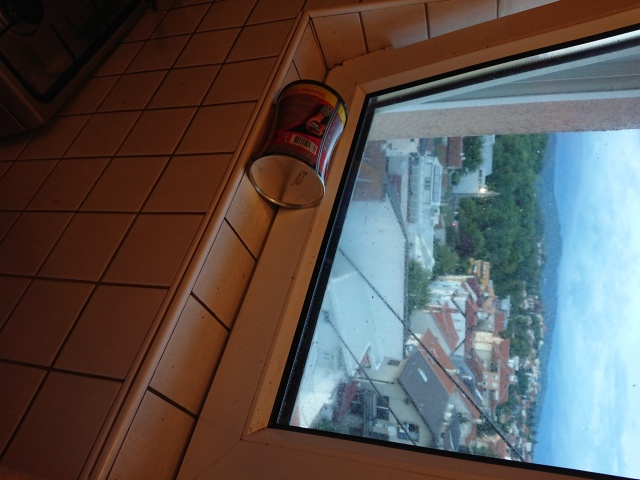Nescafe Classic 225g: (243, 77, 352, 212)
